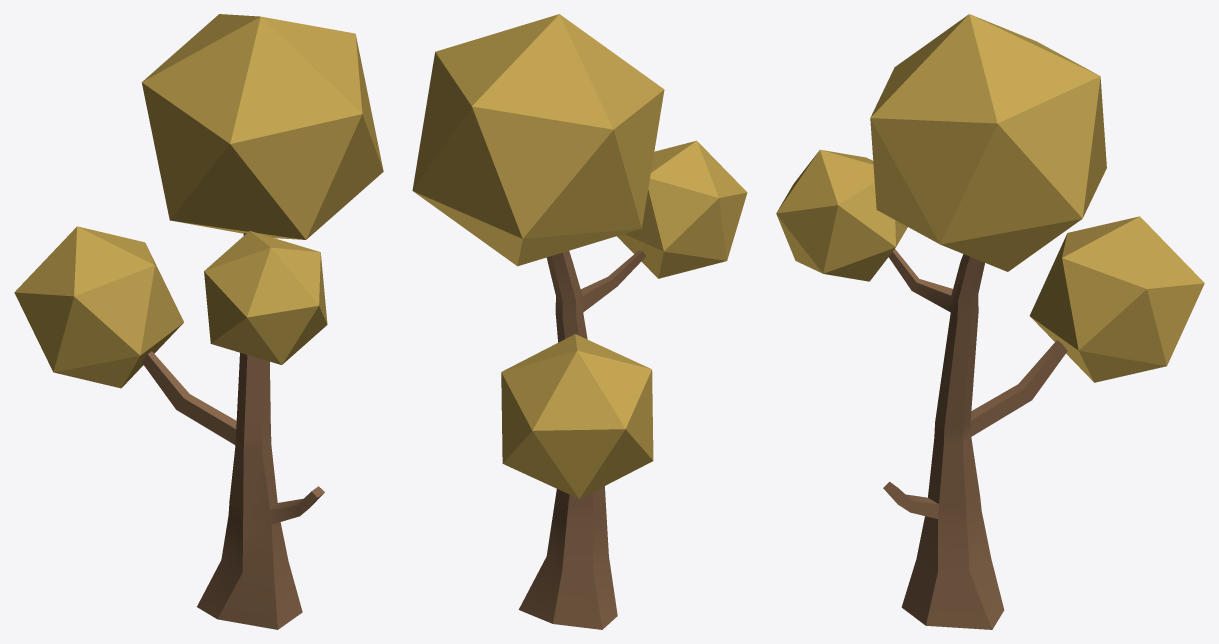
The model's file is Tree2.fbx.
3 views of the same model, side by side, from view 1: azimuth 30°, elevation 25°; view 2: azimuth 150°, elevation 25°; view 3: azimuth 270°, elevation 25° (orthographic). The views are drawn at different scales.
Parts seen in each view (by area): view 1: pPlatonic10, pPlatonic8, pCylinder9, pPlatonic9; view 2: pPlatonic10, pPlatonic8, pCylinder9, pPlatonic9; view 3: pPlatonic10, pCylinder9, pPlatonic8, pPlatonic9.
Boxes of the visible parts, <box> form: pPlatonic10: <box>141,14,383,239</box>; pPlatonic8: <box>14,226,183,388</box>; pCylinder9: <box>141,233,324,629</box>; pPlatonic9: <box>204,231,327,364</box>; pPlatonic10: <box>412,14,664,266</box>; pPlatonic8: <box>501,334,653,498</box>; pCylinder9: <box>518,250,645,629</box>; pPlatonic9: <box>617,140,747,278</box>; pPlatonic10: <box>870,14,1106,271</box>; pCylinder9: <box>883,249,1067,629</box>; pPlatonic8: <box>1029,216,1204,382</box>; pPlatonic9: <box>776,149,907,281</box>.
Bounding box in the file's own units: 0.0193 × 0.0408 × 0.0263.
